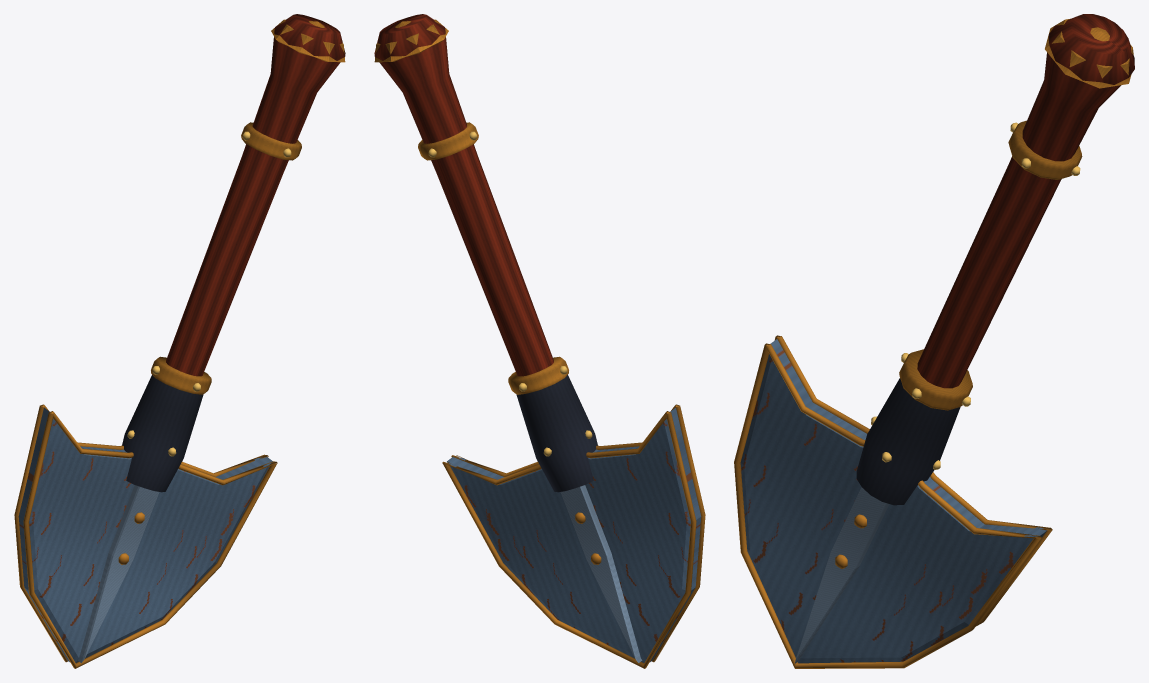
The model's file is shovel.glb.
The picture shows the model from 3 angles, left to right: view 1: azimuth 30°, elevation 25°; view 2: azimuth 150°, elevation 25°; view 3: azimuth 330°, elevation 25°; orthographic projection. The views are drawn at different scales.
Visible parts, largest first — view 1: Original spade silhouette, Wood shaft, Bronze blade edge (×2), Steel neck, Raised central reinforcing rib, Bronze collar (×2), Octagonal end cap; view 2: Original spade silhouette, Wood shaft, Bronze blade edge (×2), Steel neck, Raised central reinforcing rib, Bronze collar (×2), Octagonal end cap; view 3: Original spade silhouette, Wood shaft, Bronze blade edge (×2), Steel neck, Raised central reinforcing rib, Bronze collar (×2), Octagonal end cap.
Boxes of the visible parts, x1,y1,x2,y2 form: Original spade silhouette: (18,408,272,662); Wood shaft: (166,14,345,376); Bronze blade edge (×2): (14,404,277,668); Steel neck: (122,375,203,492); Raised central reinforcing rib: (77,485,159,662); Bronze collar (×2): (151,122,301,394); Octagonal end cap: (271,19,345,62); Original spade silhouette: (447,408,701,662); Wood shaft: (374,14,553,376); Bronze blade edge (×2): (442,404,705,668); Steel neck: (516,375,597,492); Raised central reinforcing rib: (560,485,642,662); Bronze collar (×2): (418,122,568,394); Octagonal end cap: (374,19,448,62); Original spade silhouette: (740,339,1047,663); Wood shaft: (917,14,1134,388); Bronze blade edge (×2): (734,335,1052,668); Steel neck: (856,378,960,505); Raised central reinforcing rib: (795,487,889,663); Bronze collar (×2): (899,120,1082,410); Octagonal end cap: (1045,18,1133,88).
Bounding box in the file's own units: 225 × 396 × 49.72.
6 materials, 6 textured.
